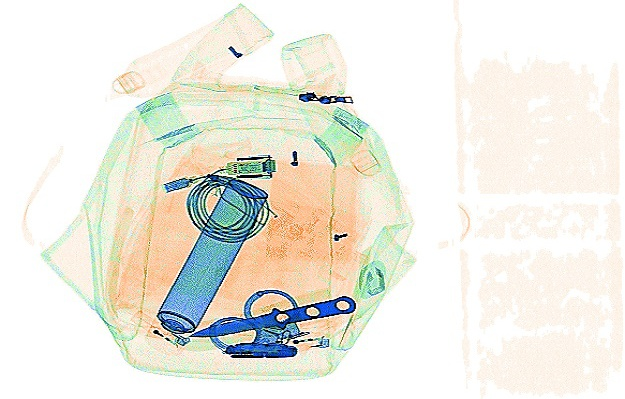handcuffs: (208, 287, 299, 354)
knife: (186, 293, 355, 337), (222, 340, 297, 360)
lighter: (122, 310, 186, 348), (269, 335, 329, 349)
pressure: (155, 177, 266, 334)
